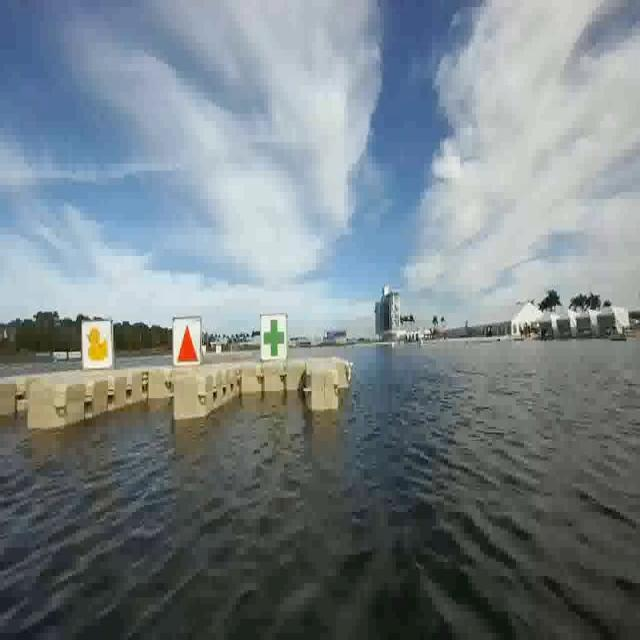blue-cross: (262, 316, 286, 360)
red-dot: (174, 325, 198, 363)
yellow-duck: (87, 325, 109, 362)
